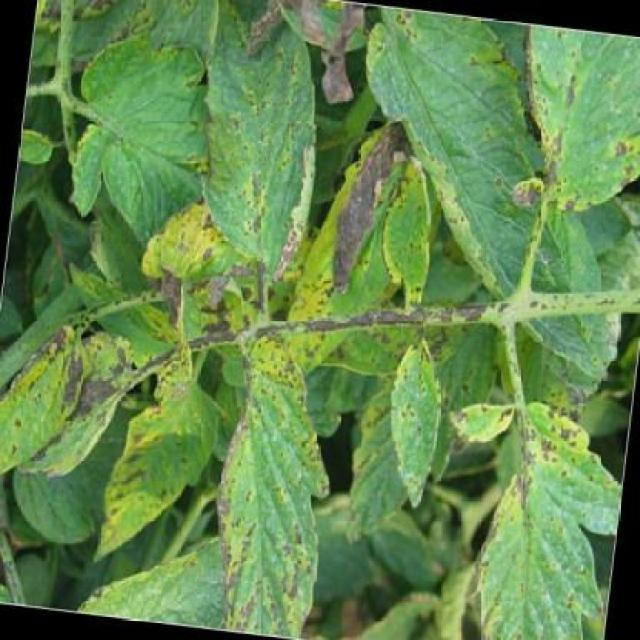Tomato leaf bacterial spot: (184, 330, 370, 636), (188, 5, 343, 300), (57, 26, 232, 249), (85, 362, 222, 582), (503, 23, 640, 225), (370, 329, 456, 514), (364, 157, 444, 312), (438, 394, 518, 455)
